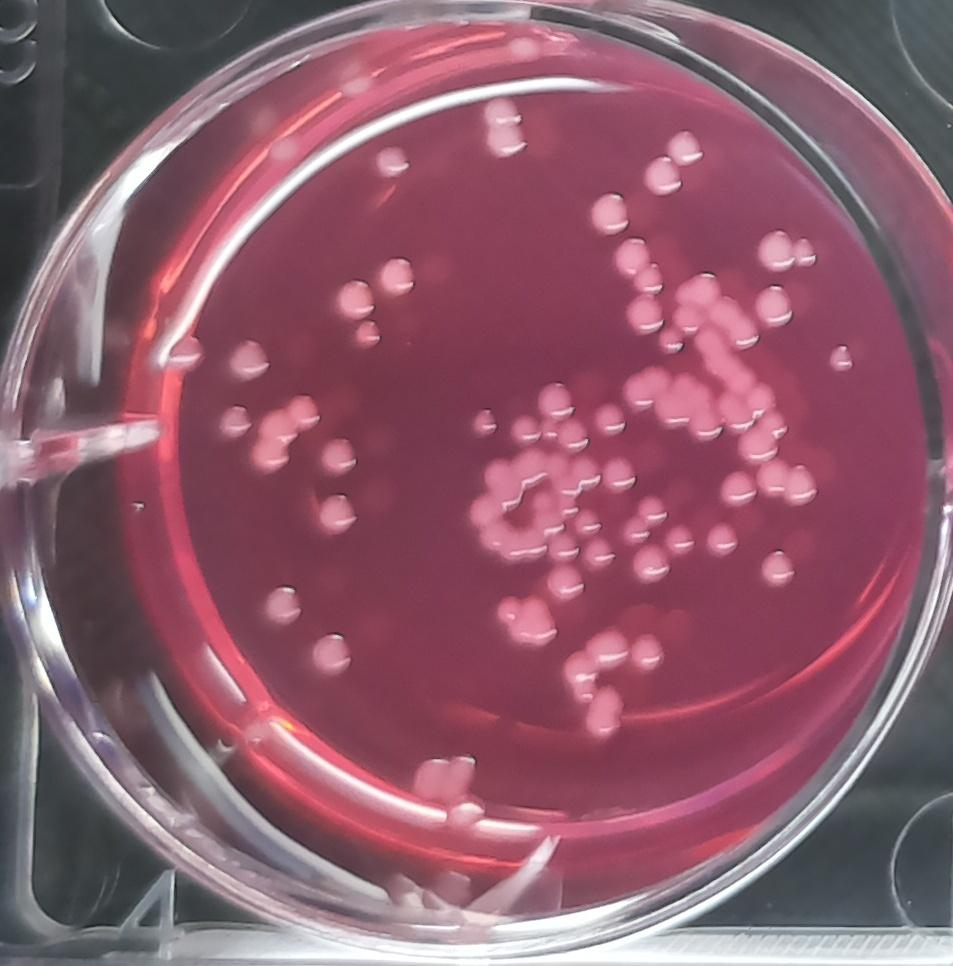bcereus: (508, 374, 593, 453), (564, 624, 631, 707), (638, 119, 706, 199), (477, 83, 530, 162), (750, 219, 821, 276), (610, 234, 666, 296), (328, 270, 379, 327), (372, 245, 421, 300), (820, 339, 861, 382)
